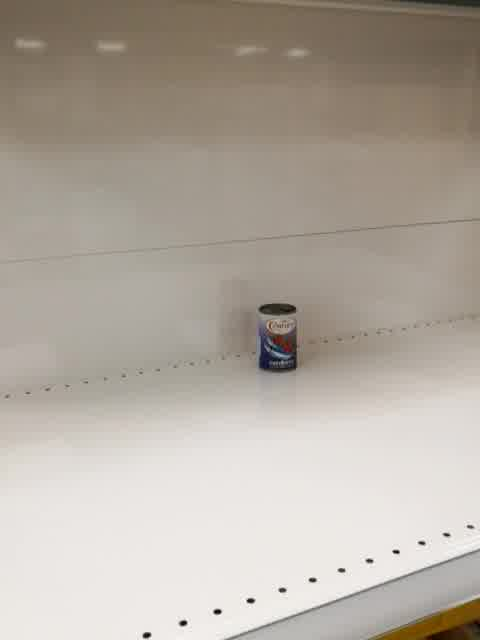sardine: (255, 302, 299, 373)
